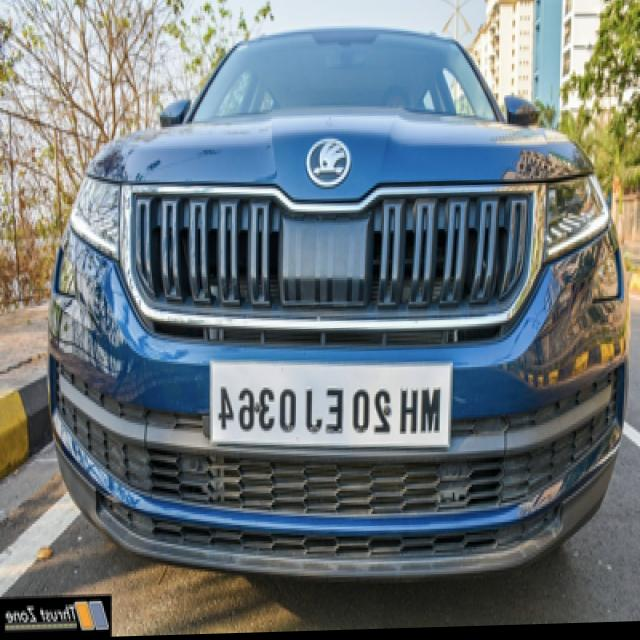licence: (205, 361, 456, 443)
